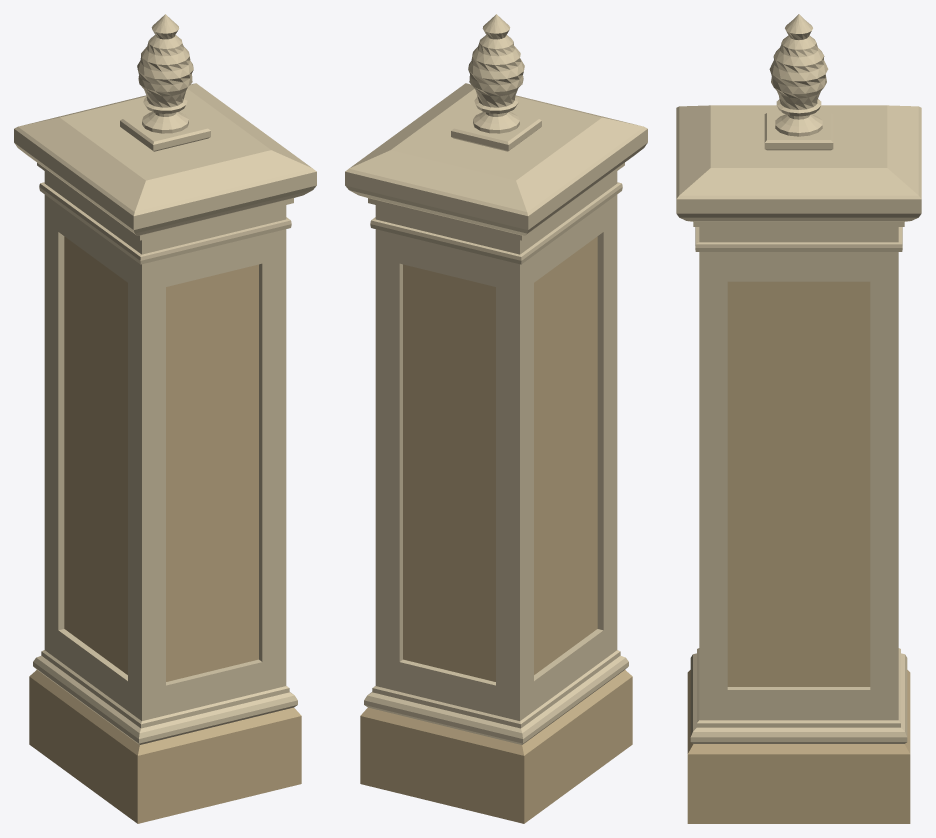
3 renders of one model, left to right at view 1: azimuth 30°, elevation 25°; view 2: azimuth 150°, elevation 25°; view 3: azimuth 270°, elevation 25°, orthographic. The views are drawn at different scales.
Visible parts, largest first — view 1: Mesh_Stone_Limestone, Mesh_Panels_Plinth_Travertine; view 2: Mesh_Stone_Limestone, Mesh_Panels_Plinth_Travertine; view 3: Mesh_Stone_Limestone, Mesh_Panels_Plinth_Travertine.
Boxes of the visible parts, x1,y1,x2,y2 form: Mesh_Stone_Limestone: [14, 14, 316, 744]; Mesh_Panels_Plinth_Travertine: [29, 236, 301, 823]; Mesh_Stone_Limestone: [345, 14, 647, 744]; Mesh_Panels_Plinth_Travertine: [360, 236, 632, 823]; Mesh_Stone_Limestone: [676, 14, 921, 743]; Mesh_Panels_Plinth_Travertine: [687, 281, 910, 823].
Bounding box in the file's own units: 0.76 × 2.97 × 0.86.
